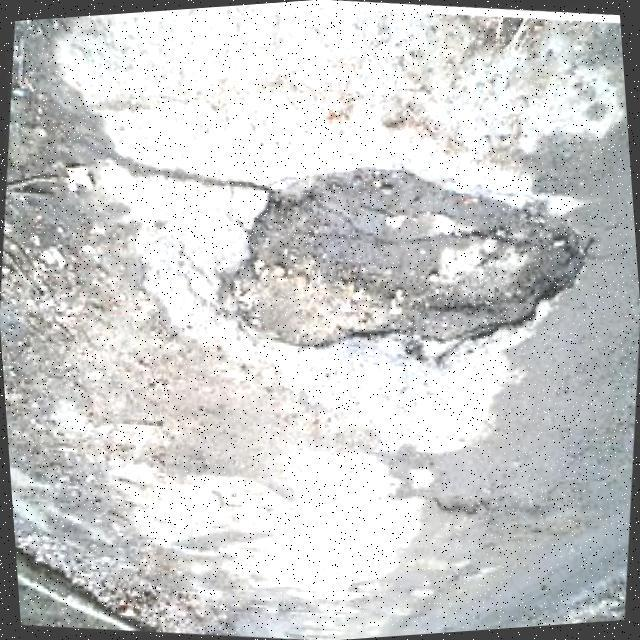Pothole: (228, 166, 593, 346)
